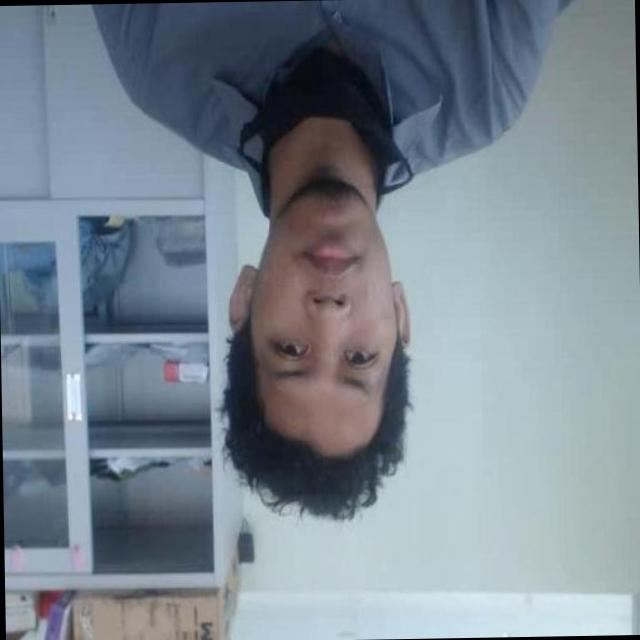bareface: (186, 153, 440, 517)
